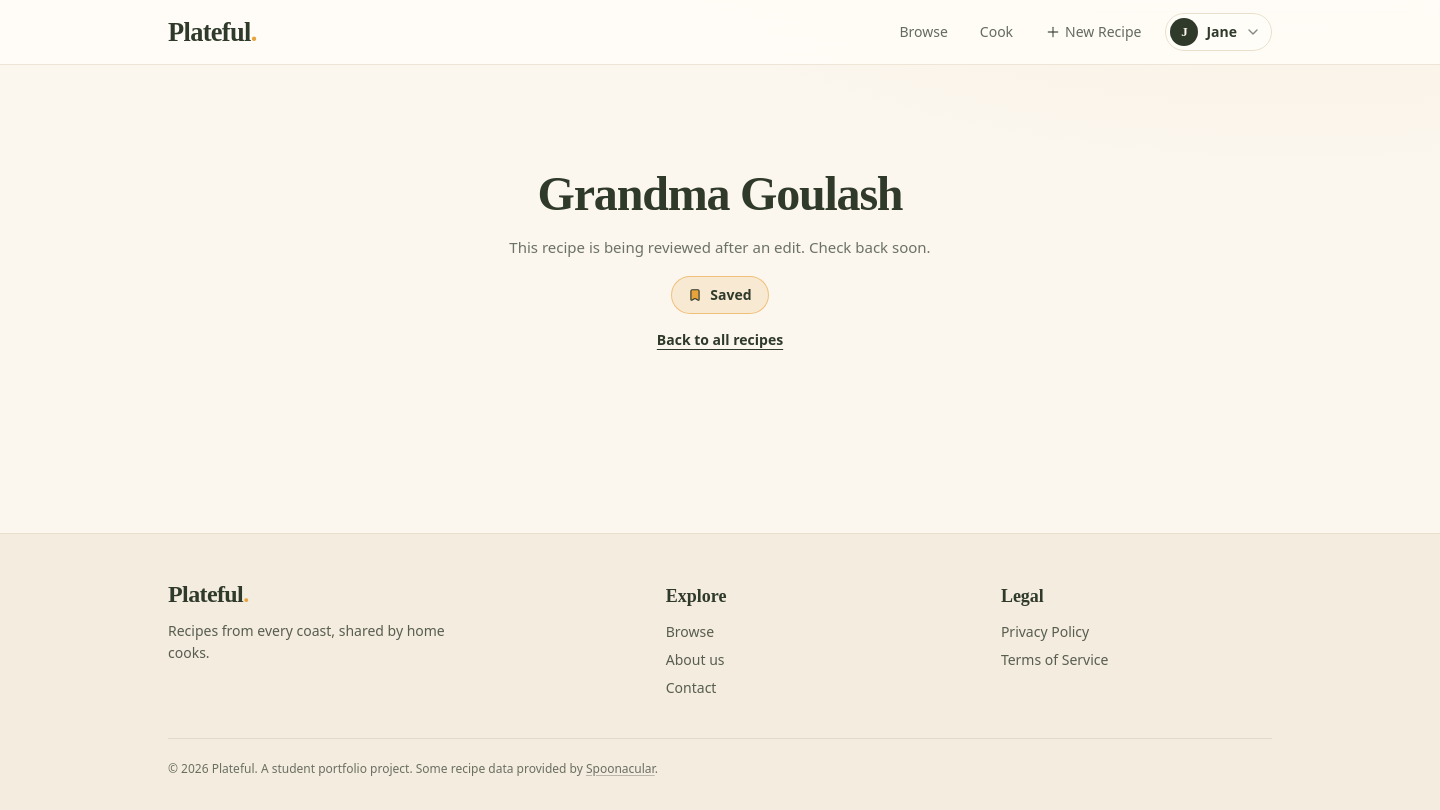
hidden recipe pages › hiddenPageSaveButtonUnsaves
The width and height of the screenshot is (1440, 810).
What coordinates should you click on to do the following:
click the button "Saved"
I would click on:
 (720, 295)
Its box is [671,276,769,314].
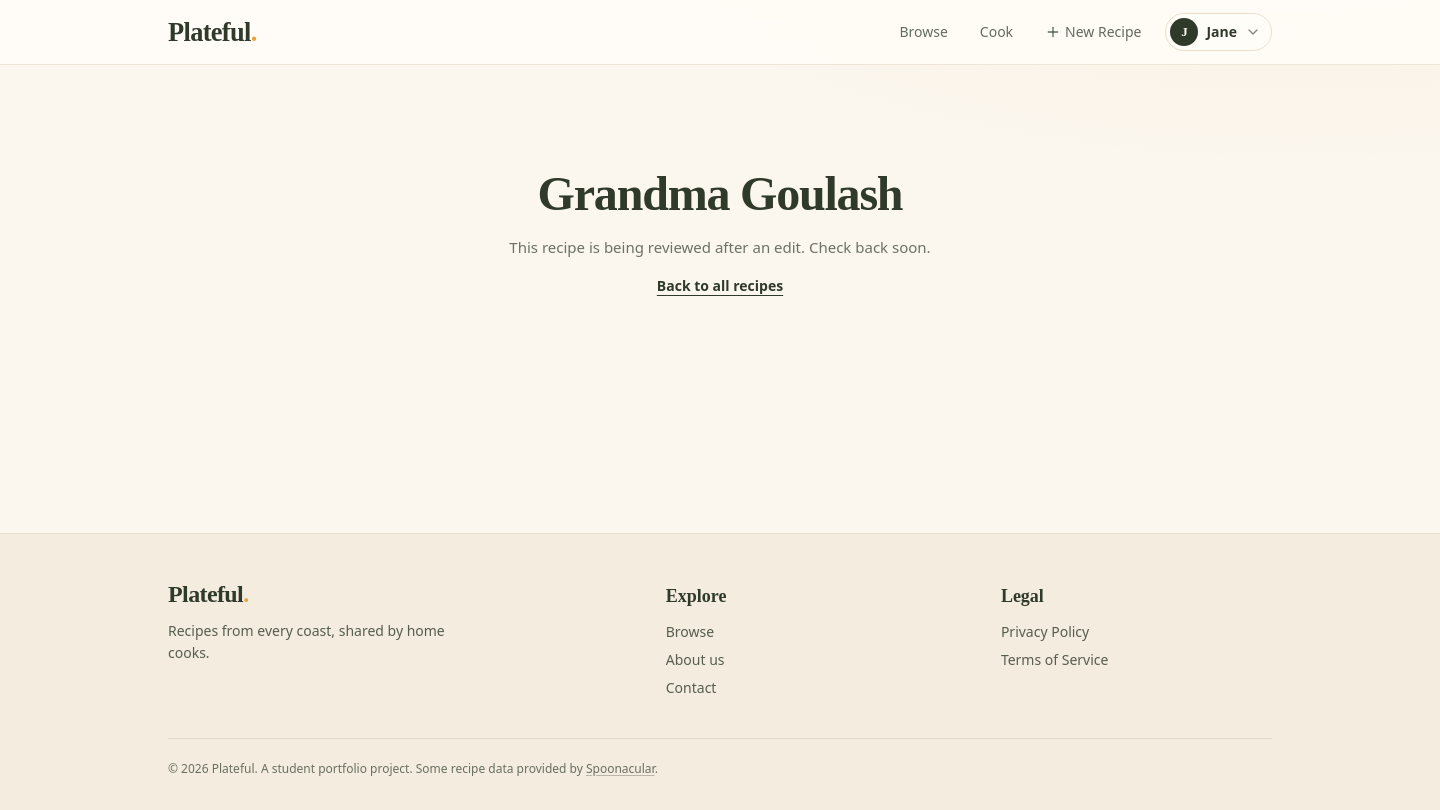
Result: the button "Save" is gone
